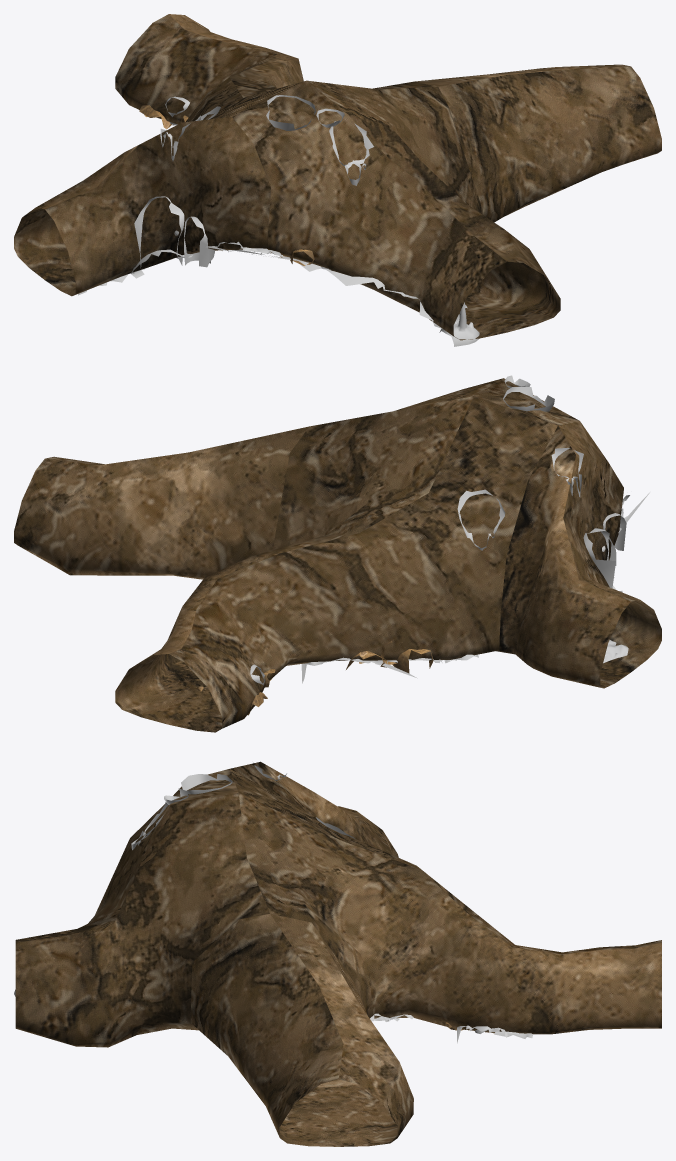
File: cave_4way.dae
The picture shows the model from 3 angles, top to bottom: view 1: azimuth 30°, elevation 25°; view 2: azimuth 150°, elevation 25°; view 3: azimuth 270°, elevation 25°; orthographic projection. The views are drawn at different scales.
Visible parts, largest first — view 1: Cave_4Way, Stalagmite, Mound, RockPile, Rocks; view 2: Cave_4Way, Stalagmite, RockPile, Rocks; view 3: Cave_4Way, Stalagmite.
Part boxes in pixels (x1=…): Cave_4Way: x1=14, y1=14, x2=661, y2=340; Stalagmite: x1=134, y1=95, x2=479, y2=346; Mound: x1=131, y1=249, x2=442, y2=328; RockPile: x1=78, y1=241, x2=305, y2=295; Rocks: x1=139, y1=105, x2=314, y2=266; Cave_4Way: x1=14, y1=378, x2=661, y2=732; Stalagmite: x1=250, y1=375, x2=626, y2=685; RockPile: x1=301, y1=492, x2=649, y2=683; Rocks: x1=198, y1=641, x2=433, y2=715; Cave_4Way: x1=15, y1=761, x2=661, y2=1146; Stalagmite: x1=14, y1=762, x2=512, y2=1036.
Size of the model in its own units: 1000 by 1002 by 331.
